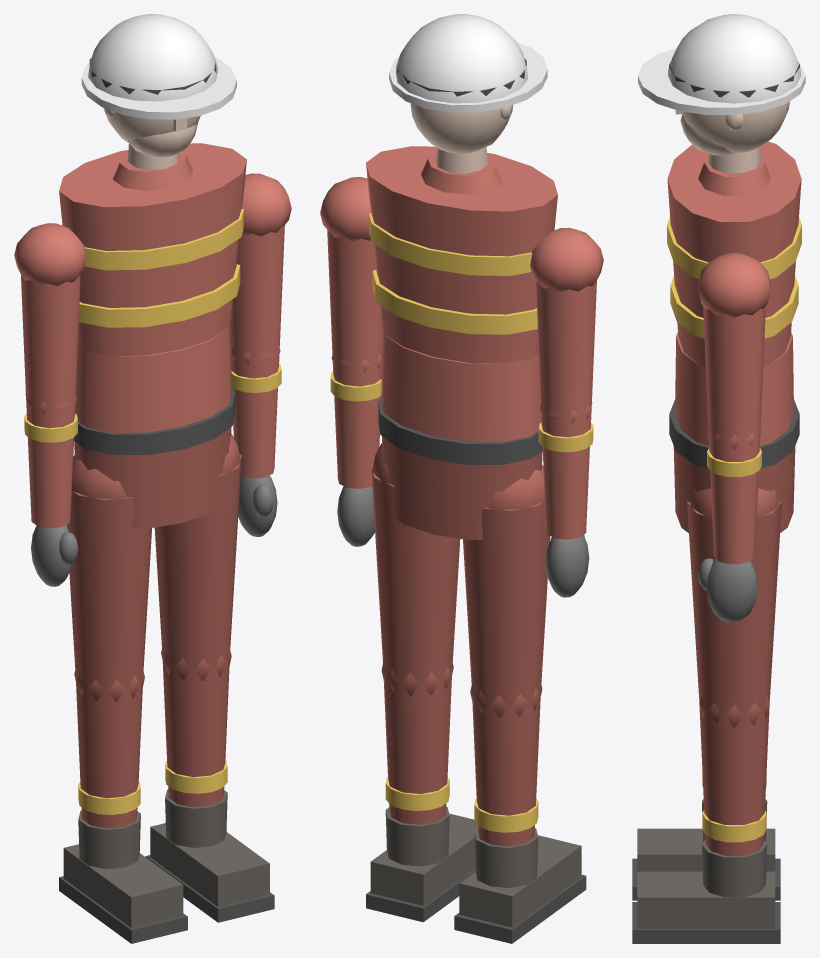
The model's file is gti.glb.
3 views of the same model, side by side, from view 1: azimuth 30°, elevation 25°; view 2: azimuth 150°, elevation 25°; view 3: azimuth 270°, elevation 25° (orthographic). The views are drawn at different scales.
Visible parts, largest first — view 1: chest, head, hip_R, hip_L, spine, pelvis, ankle_R, shoulder_R, ankle_L, knee_R, knee_L, shoulder_L (+5 smaller); view 2: chest, hip_R, head, hip_L, spine, pelvis, shoulder_R, ankle_R, knee_L, knee_R, ankle_L, shoulder_L (+5 smaller); view 3: chest, head, hip_L, ankle_L, shoulder_L, knee_L, elbow_L, pelvis, spine, ankle_R, wrist_L, neck.
Part boxes in pixels (x1,y1,x2,y2): chest: (59,143,246,356); head: (81,14,236,157); hip_R: (66,455,151,690); hip_L: (154,434,241,669); spine: (75,322,231,432); pelvis: (74,390,234,528); ankle_R: (59,810,187,943); shoulder_R: (14,223,86,408); ankle_L: (145,789,274,922); knee_R: (74,668,144,828); knee_L: (161,647,231,807); shoulder_L: (230,173,291,358); chest: (366,146,557,363); hip_R: (463,465,550,705); head: (389,14,547,153); hip_L: (371,443,460,683); spine: (381,328,541,442); pelvis: (378,399,542,539); shoulder_R: (530,227,603,416); ankle_R: (454,828,586,943); knee_L: (381,661,453,824); knee_R: (470,683,542,846); ankle_L: (366,806,477,922); shoulder_L: (320,177,382,365); chest: (667,141,801,366); head: (638,14,805,155); hip_L: (687,488,781,714); ankle_L: (632,840,780,943); shoulder_L: (698,253,770,441); knee_L: (699,696,769,855); elbow_L: (707,428,761,564); pelvis: (669,399,799,533); spine: (675,331,793,445); ankle_R: (632,799,780,900); wrist_L: (697,558,757,622); neck: (708,147,760,172).
Size of the model in its own units: 0.6182 by 1.92 by 0.3392.
